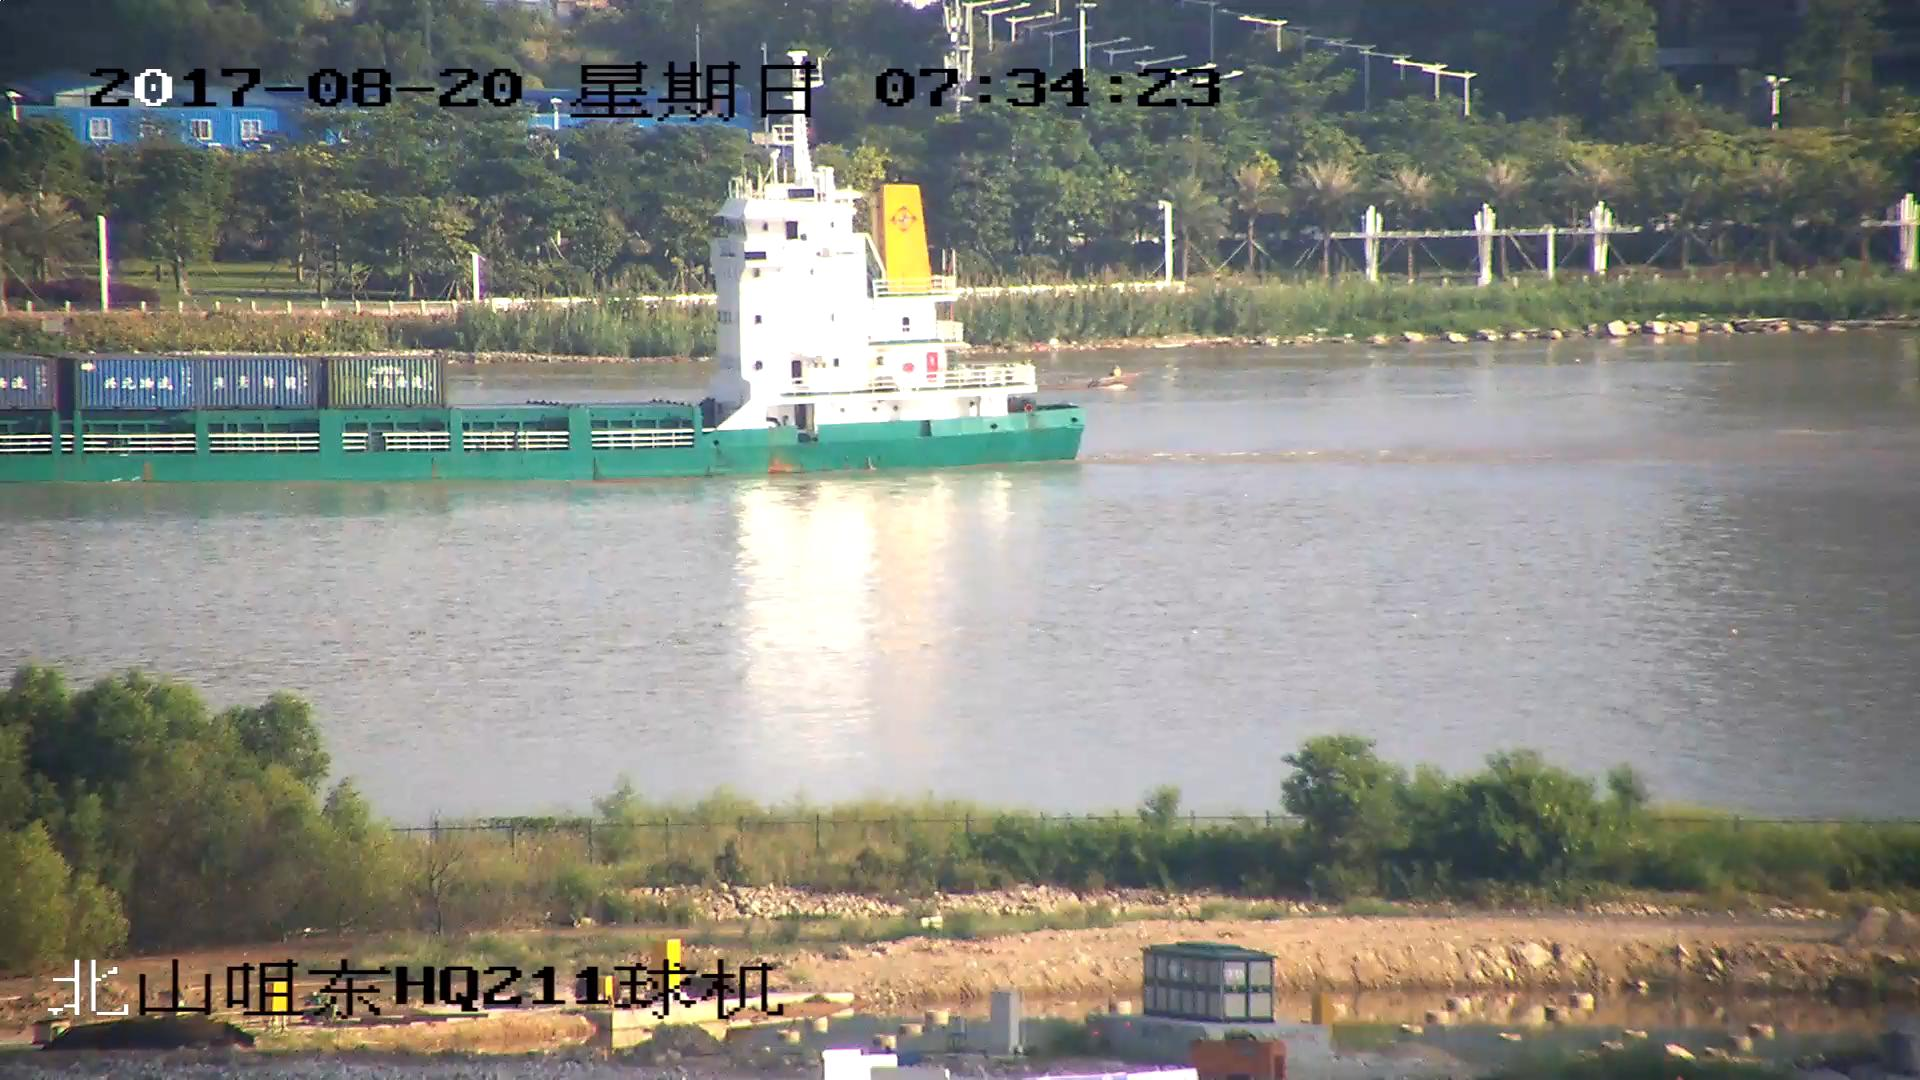general cargo ship: (1, 114, 1082, 481)
